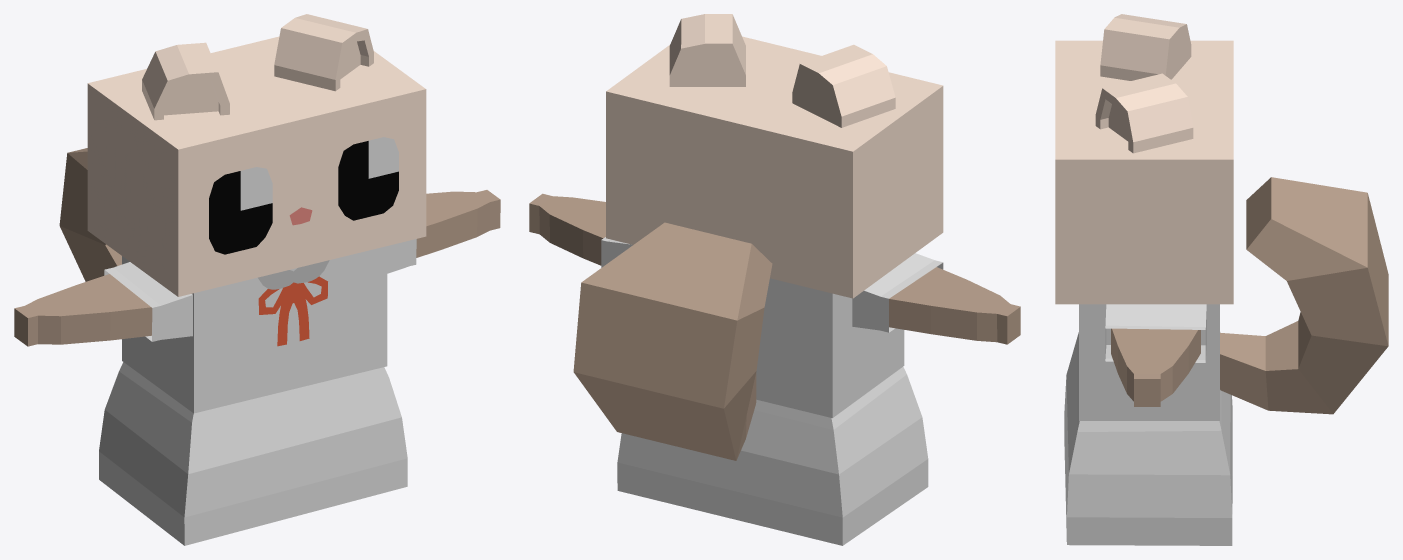
Rendered from npc_basic form_dotori npc1.fbx.
3 renders of one model, left to right at view 1: azimuth 30°, elevation 25°; view 2: azimuth 150°, elevation 25°; view 3: azimuth 270°, elevation 25°, orthographic.
Visible parts, largest first — view 1: head.001, dungarees(Skirt), clothes, eyes, mouth, arm.R, arm.L.001, tail, clothes.R, Plane.002, Plane.001, clothes.L; view 2: head.001, tail, dungarees(Skirt), clothes, arm.R, arm.L.001, clothes.R; view 3: head.001, tail, dungarees(Skirt), clothes, arm.L.001, clothes.L.
Boxes of the visible parts, x1=… form: head.001: x1=87, y1=14, x2=426, y2=296; dungarees(Skirt): x1=99, y1=362, x2=407, y2=545; clothes: x1=122, y1=246, x2=387, y2=413; eyes: x1=209, y1=137, x2=398, y2=254; mouth: x1=206, y1=207, x2=396, y2=289; arm.R: x1=14, y1=274, x2=152, y2=346; arm.L.001: x1=416, y1=190, x2=500, y2=257; tail: x1=59, y1=148, x2=121, y2=281; clothes.R: x1=104, y1=262, x2=192, y2=341; Plane.002: x1=258, y1=276, x2=327, y2=346; Plane.001: x1=258, y1=260, x2=329, y2=289; clothes.L: x1=387, y1=239, x2=416, y2=273; head.001: x1=606, y1=14, x2=943, y2=298; tail: x1=573, y1=222, x2=772, y2=460; dungarees(Skirt): x1=617, y1=367, x2=928, y2=545; clothes: x1=756, y1=278, x2=904, y2=417; arm.R: x1=889, y1=267, x2=1020, y2=344; arm.L.001: x1=529, y1=193, x2=605, y2=265; clothes.R: x1=852, y1=253, x2=943, y2=332; head.001: x1=1055, y1=14, x2=1233, y2=304; tail: x1=1220, y1=177, x2=1388, y2=414; dungarees(Skirt): x1=1064, y1=332, x2=1232, y2=545; clothes: x1=1079, y1=304, x2=1219, y2=420; arm.L.001: x1=1111, y1=328, x2=1200, y2=406; clothes.L: x1=1105, y1=304, x2=1206, y2=362.
Bounding box in the file's own units: 568 × 511 × 357.
